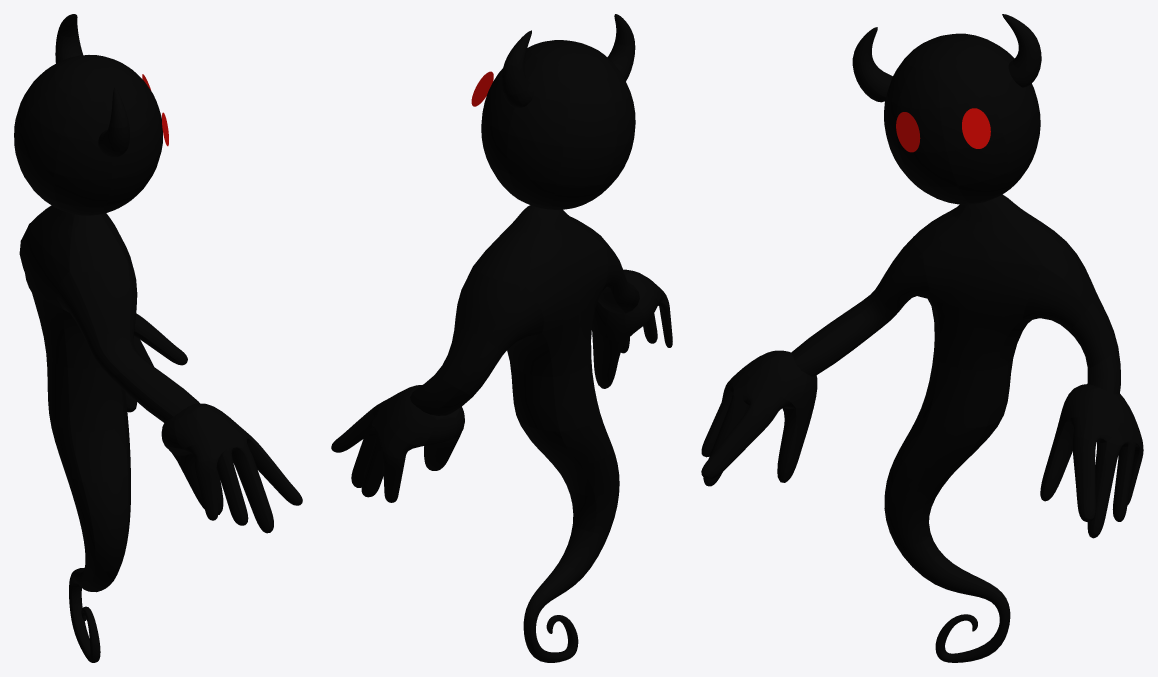
File: BlackGhost.fbx
The picture shows the model from 3 angles, left to right: view 1: azimuth 30°, elevation 25°; view 2: azimuth 150°, elevation 25°; view 3: azimuth 270°, elevation 25°; orthographic projection. The views are drawn at different scales.
Parts seen in each view (by area): view 1: old_low_poly_mesh.001; view 2: old_low_poly_mesh.001; view 3: old_low_poly_mesh.001.
Part boxes in pixels (x1,y1,x2,y2): old_low_poly_mesh.001: (14, 14, 302, 662); old_low_poly_mesh.001: (331, 14, 672, 662); old_low_poly_mesh.001: (701, 14, 1143, 662).
Bounding box in the file's own units: 56.31 × 150 × 92.42.
